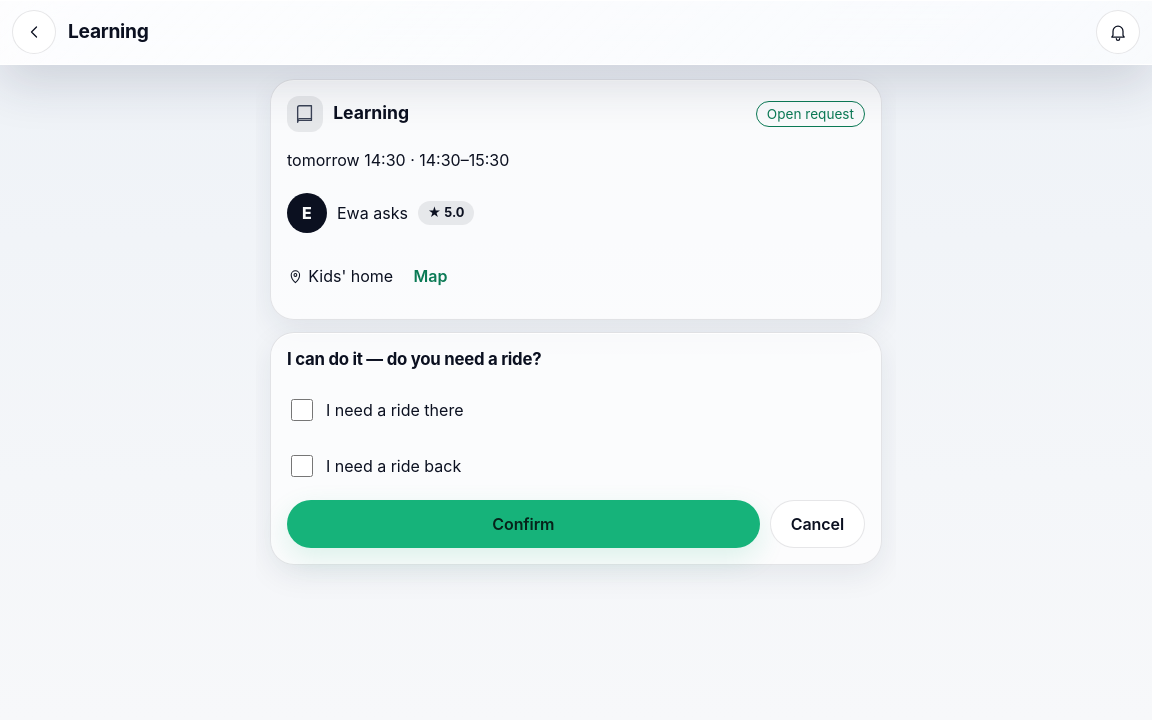
2.1 C3: someone's open request and the take sheet (FR-163) › after the take went through but the ride failed, Confirm again books the ride only — never takes twice (U1)
The width and height of the screenshot is (1152, 720).
Expected: the element with test id "take-sheet" is shown, [270,332,882,565]
Click the checkbox with test id "need-ride-there" at (302, 410), box [291,399,313,421]
(page scrolled)
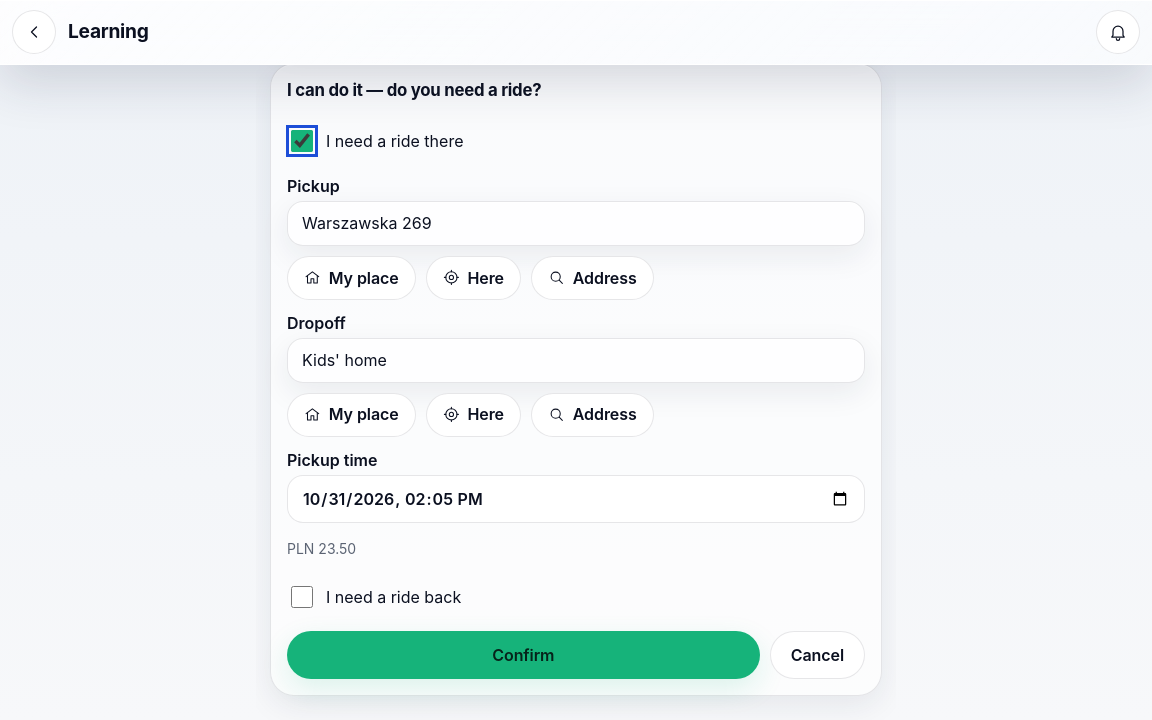
Click the button with test id "take-confirm" at (523, 655), box [287,631,760,679]
(page scrolled)
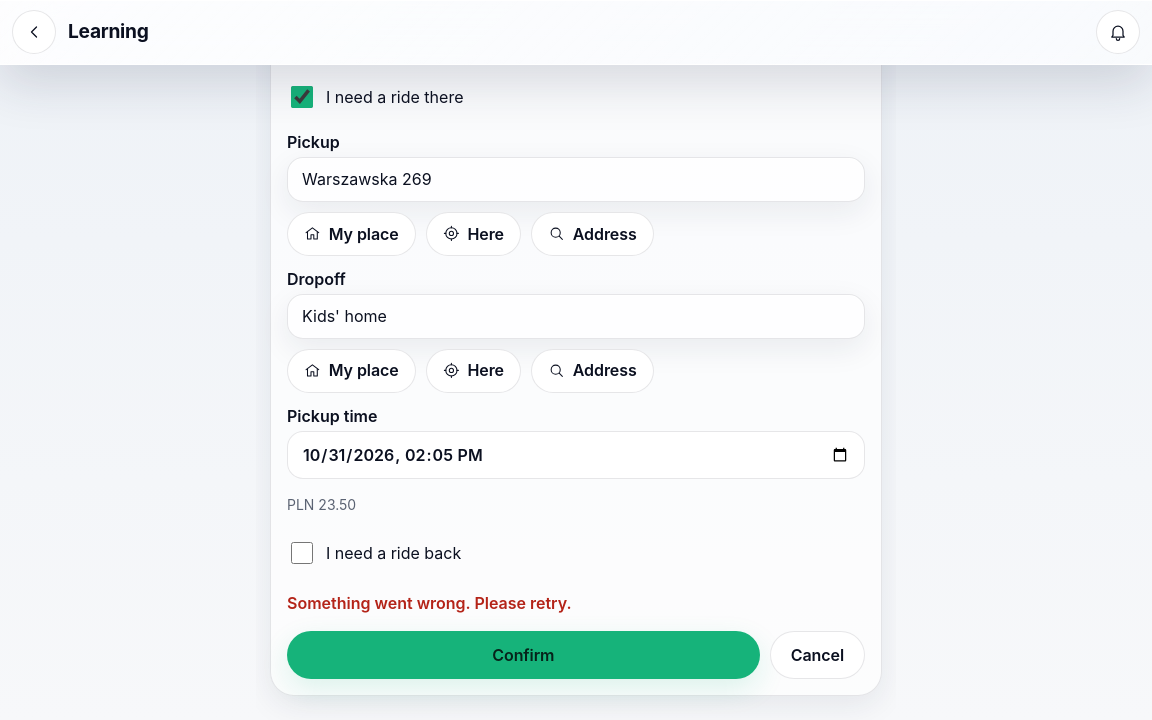
Expected: the element with test id "take-sheet" is shown, [270,65,882,696]
Expected: the message "Something went wrong. Please retry." is shown, [287,593,572,613]
Click the button with test id "take-confirm" at (523, 655), box [287,631,760,679]
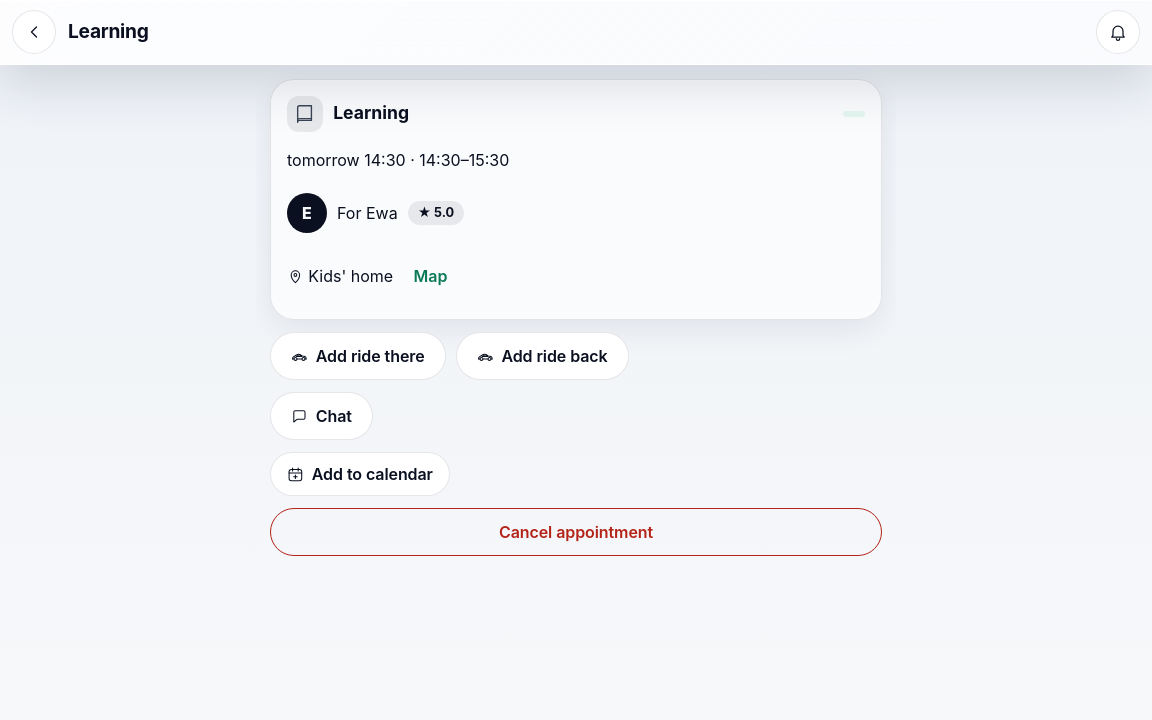
Expected: the element with test id "take-sheet" is gone
Expected: the message "Something went wrong. Please retry." is gone
Expected: the button with test id "add-ride-back" is shown, [456,332,629,380]
